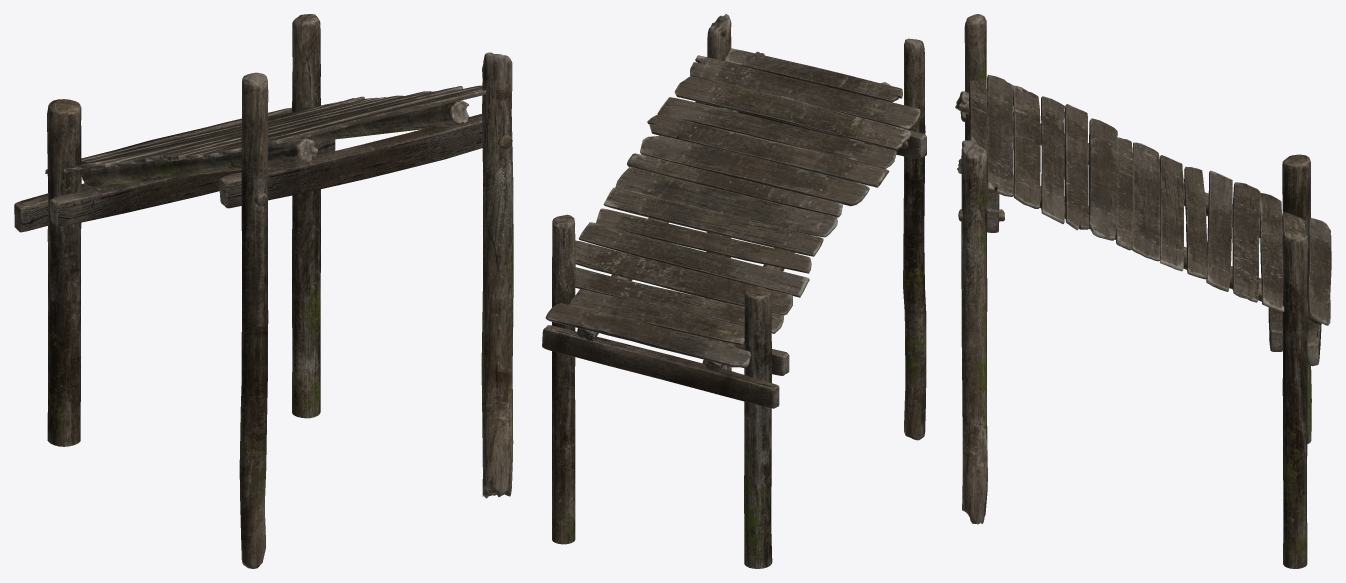
Rendered from pier_end.glb.
The picture shows the model from 3 angles, left to right: view 1: azimuth 30°, elevation 25°; view 2: azimuth 150°, elevation 25°; view 3: azimuth 270°, elevation 25°; orthographic projection. The views are drawn at different scales.
Parts seen in each view (by area): view 1: modular_wooden_pier_section_04; view 2: modular_wooden_pier_section_04; view 3: modular_wooden_pier_section_04.
Boxes of the visible parts, x1,y1,x2,y2 form: modular_wooden_pier_section_04: (14,14,513,568); modular_wooden_pier_section_04: (542,14,926,568); modular_wooden_pier_section_04: (955,14,1331,568).
Bounding box in the file's own units: 2.46 × 4.16 × 3.16.
2 materials, 2 textured.
